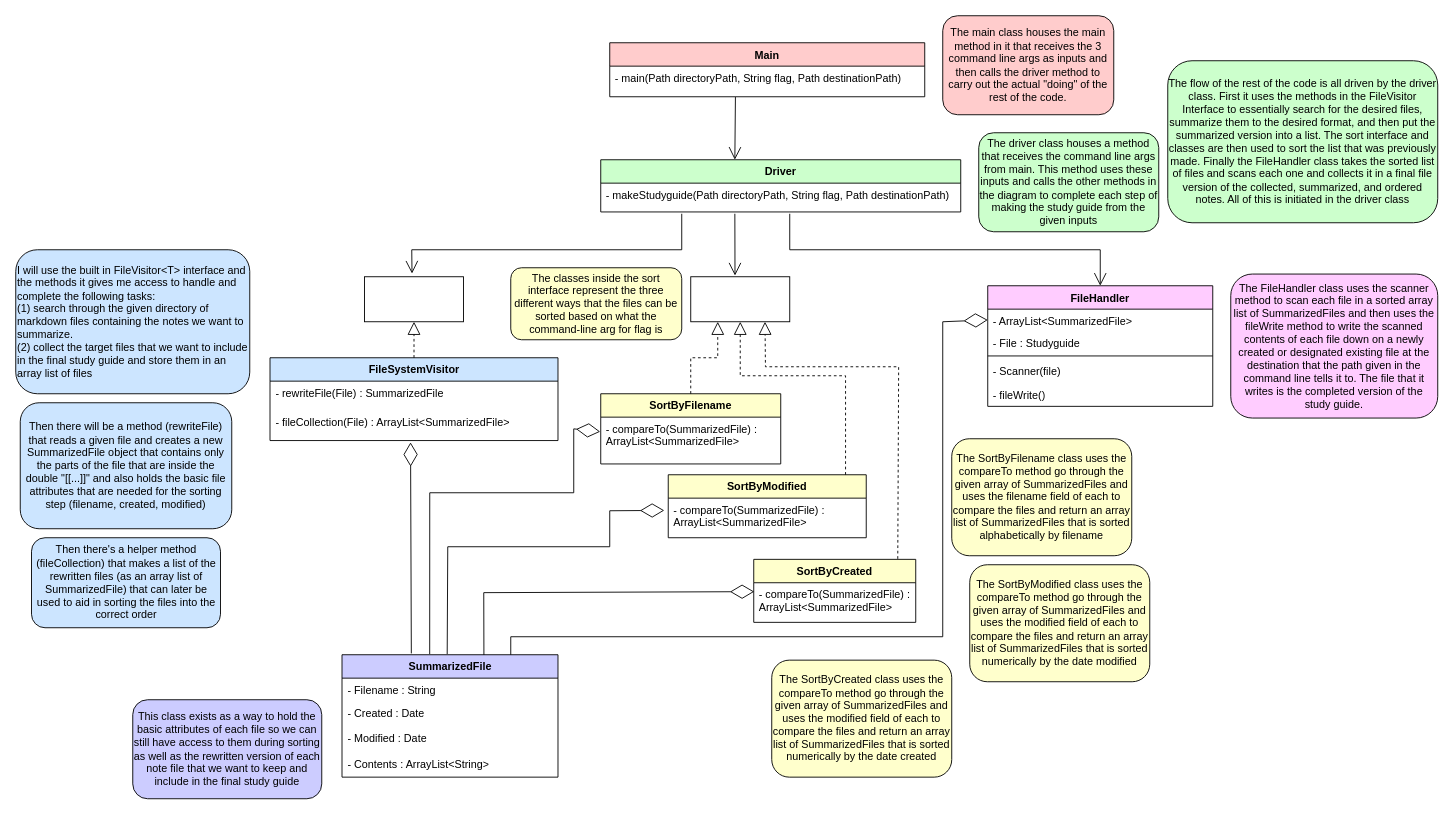
This 1454x815 diagram has some shape labels left out. Here are the shapes that lost their labels. From the top down, the centre of each, then its label:
At point (414, 299): "«interface» FileVisitor<T>".
At point (740, 299): "«interface» Sort".
